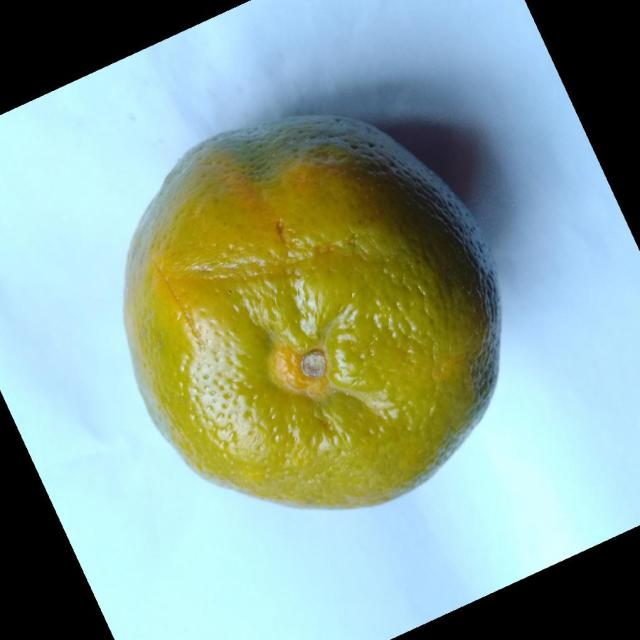fresh orange: (122, 112, 502, 510)
